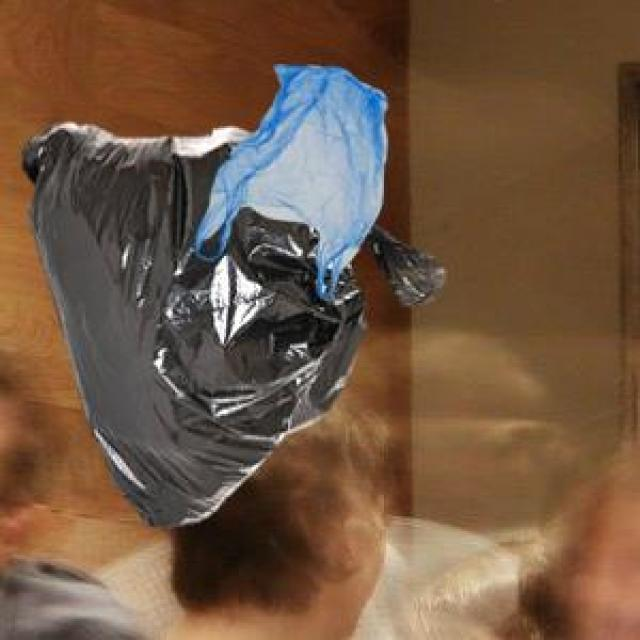miscellaneous trash: (19, 122, 442, 523)
